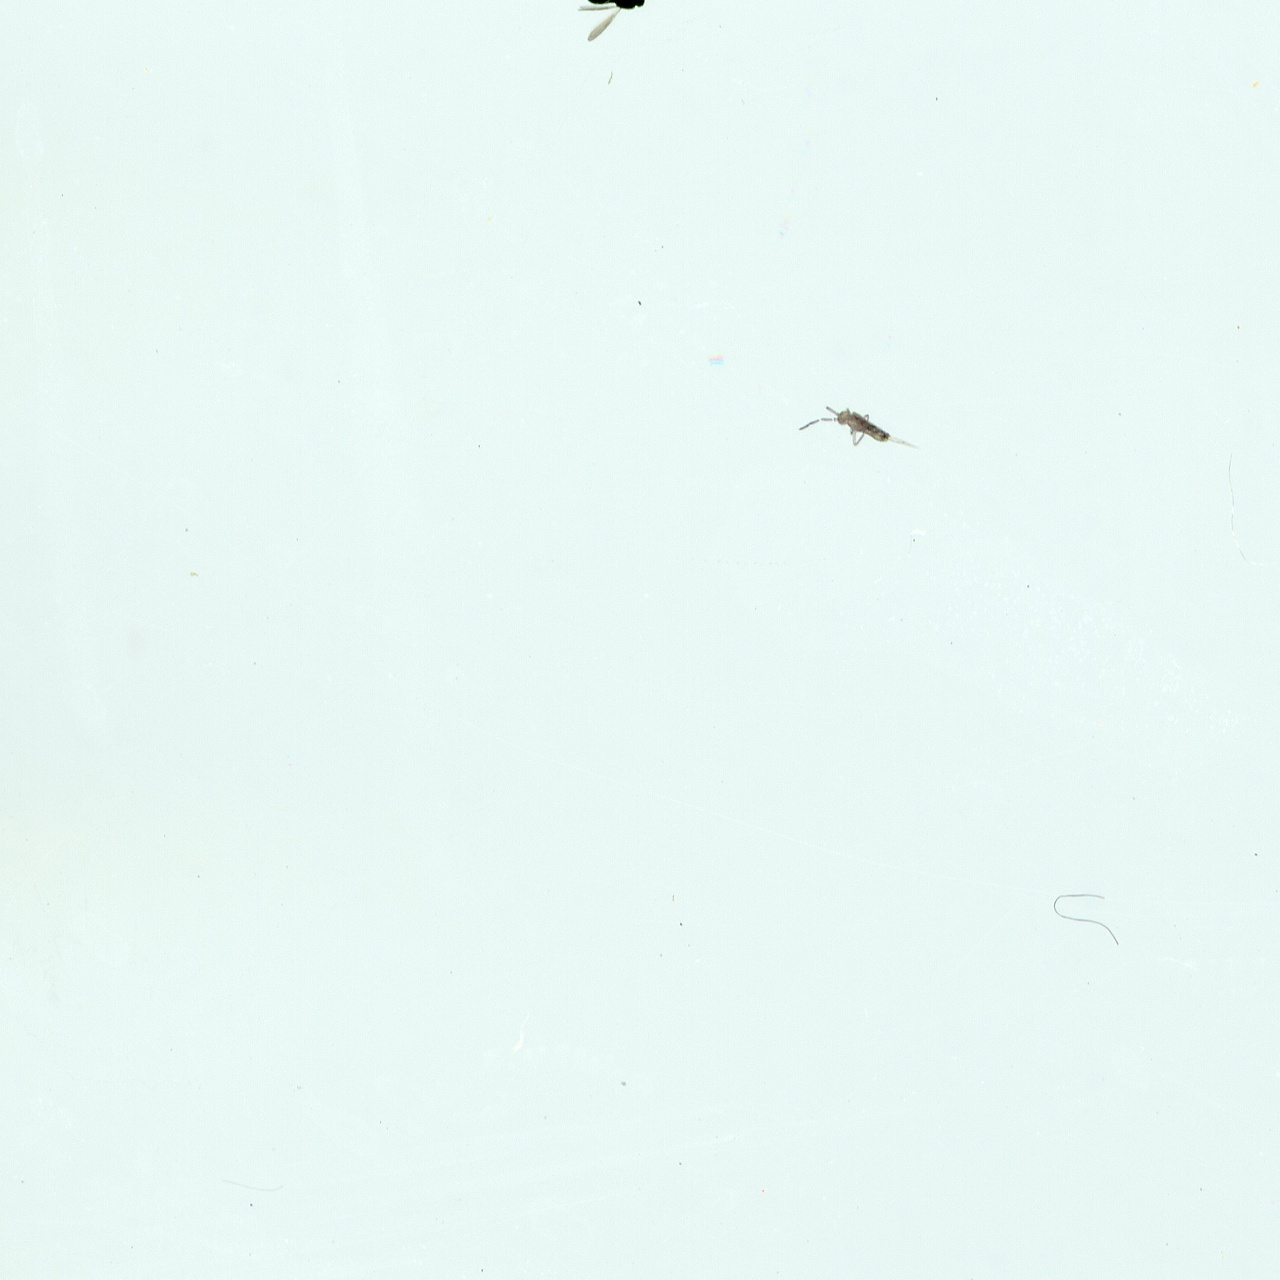arthropod: (790, 400, 932, 466), (569, 0, 657, 48)
